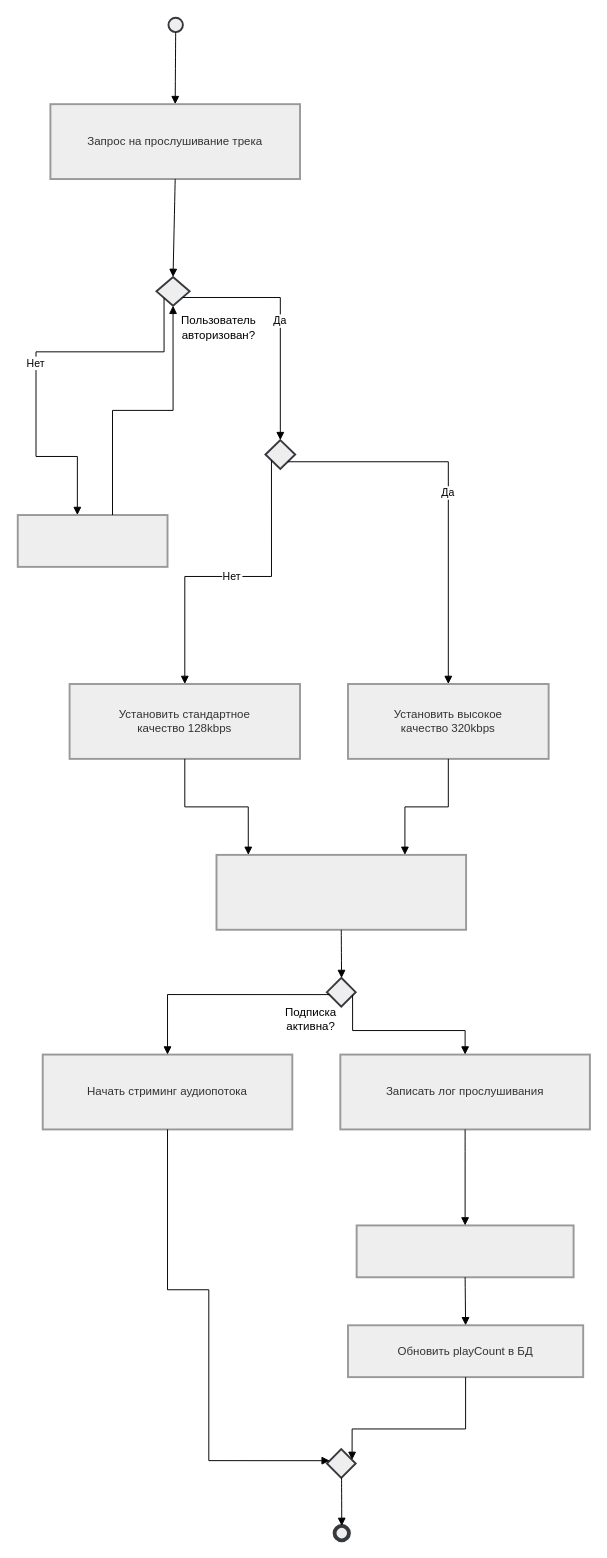
Image size: 607x1558. Some labels were removed from this diagram. Here are the shapes that lost their labels. From the top down, the centre of each, then its label:
the point at 92,540: Форма входа
the point at 341,891: Получить файл трека и метаданные
the point at 464,1251: Метод: incrementPlays
